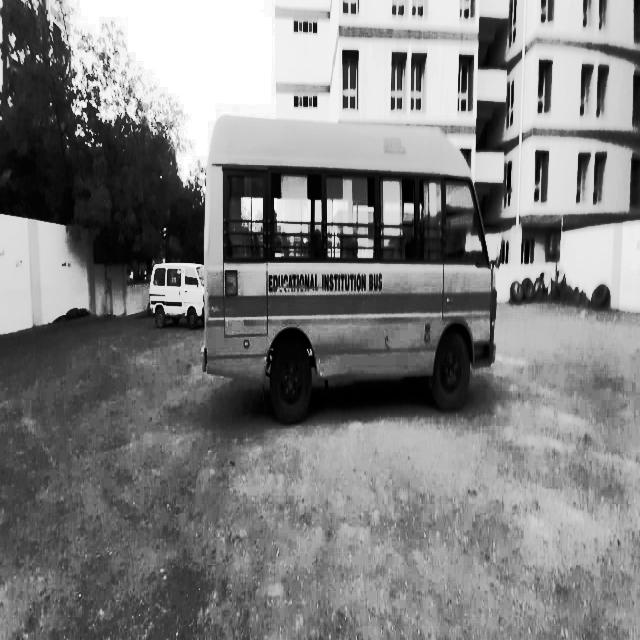Bus: (194, 89, 508, 435)
